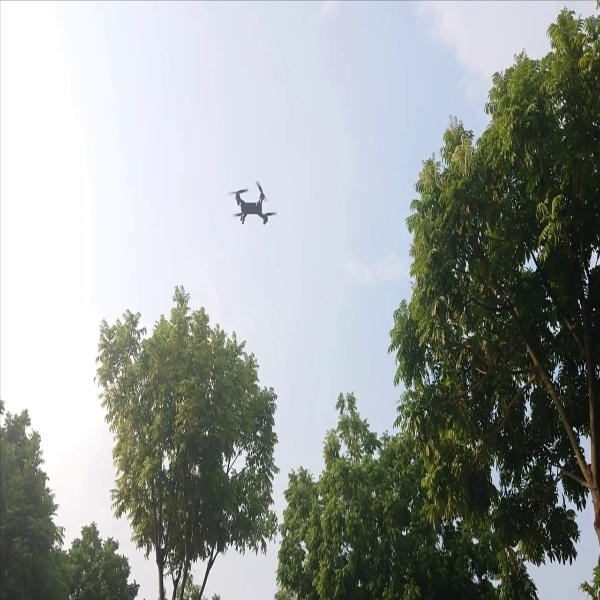drone: (223, 171, 289, 235)
